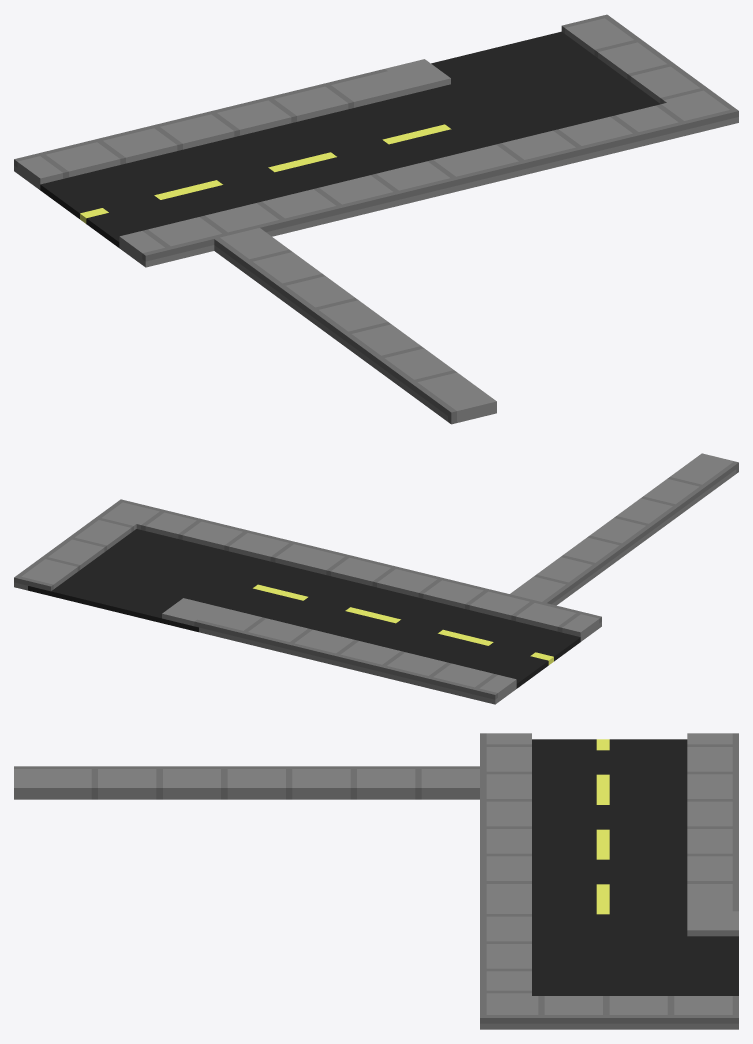
The model's file is store_fill-4.obj.
The picture shows the model from 3 angles, top to bottom: view 1: azimuth 30°, elevation 25°; view 2: azimuth 150°, elevation 25°; view 3: azimuth 270°, elevation 25°; orthographic projection. The views are drawn at different scales.
Visible parts, largest first — view 1: store_fill-4; view 2: store_fill-4; view 3: store_fill-4.
Part boxes in pixels (x1,y1,x2,y2): store_fill-4: (14, 14, 738, 424); store_fill-4: (14, 453, 738, 704); store_fill-4: (14, 733, 738, 1029).
Bounding box in the file's own units: 104 × 2 × 112.
1 material, 1 textured.
